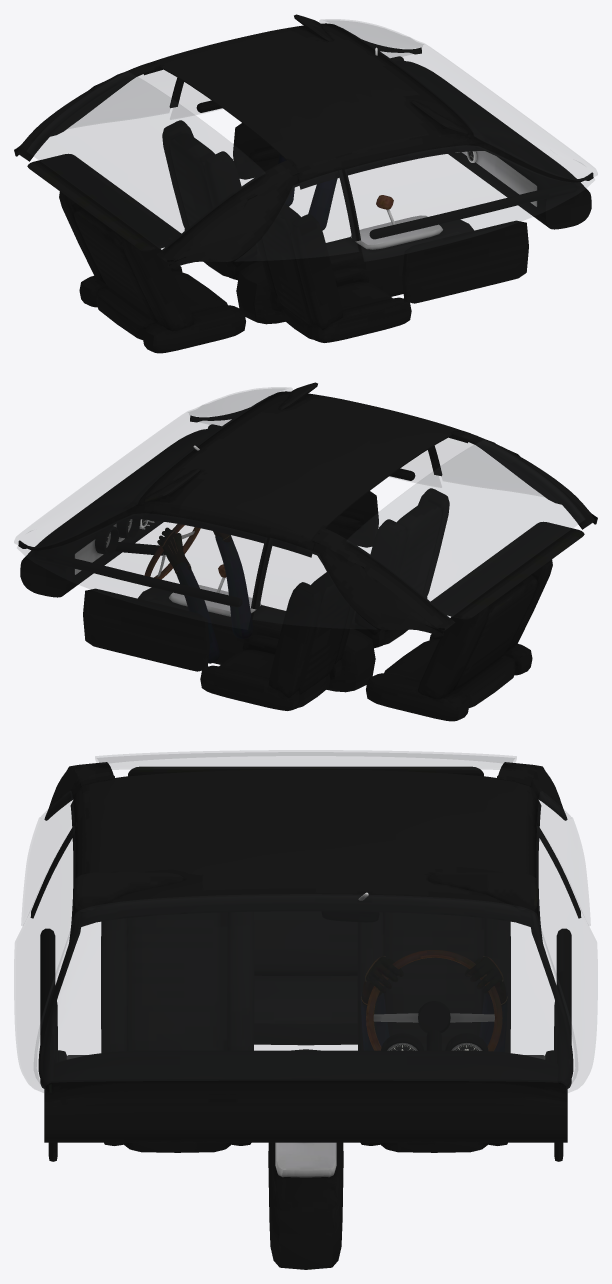
Rendered from sv_stallion_cockpit_mid.glb.
3 views of the same model, one above another, from view 1: azimuth 30°, elevation 25°; view 2: azimuth 150°, elevation 25°; view 3: azimuth 270°, elevation 25° (orthographic). The views are drawn at different scales.
Parts seen in each view (by area): view 1: cockpit_shell, cabin_glass, window_R, hands, window_L; view 2: cockpit_shell, cabin_glass, window_L, hands, steering_wheel, window_R; view 3: cockpit_shell, cabin_glass, window_L, window_R, hands, steering_wheel.
Part boxes in pixels (x1,y1,x2,y2): cockpit_shell: (14, 14, 593, 353); cabin_glass: (27, 19, 597, 260); window_R: (345, 145, 594, 261); hands: (278, 154, 337, 230); window_L: (179, 82, 219, 114); cockpit_shell: (18, 382, 597, 721); cabin_glass: (14, 387, 584, 628); window_L: (17, 513, 266, 629); hands: (157, 527, 253, 663); steering_wheel: (144, 524, 200, 579); window_R: (392, 450, 432, 482); cockpit_shell: (30, 762, 581, 1269); cabin_glass: (21, 750, 590, 1088); window_L: (537, 826, 597, 1092); window_R: (14, 826, 74, 1092); hands: (361, 956, 507, 1052); steering_wheel: (366, 950, 502, 1051).
Bounding box in the file's own units: 2.15 × 1.1 × 1.71.
4 materials, 2 textured.
